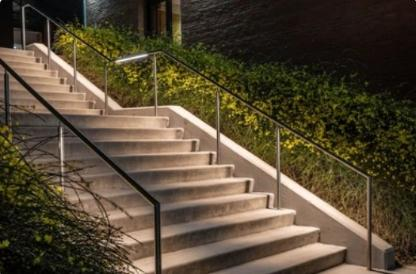stair: (1, 5, 370, 274)
